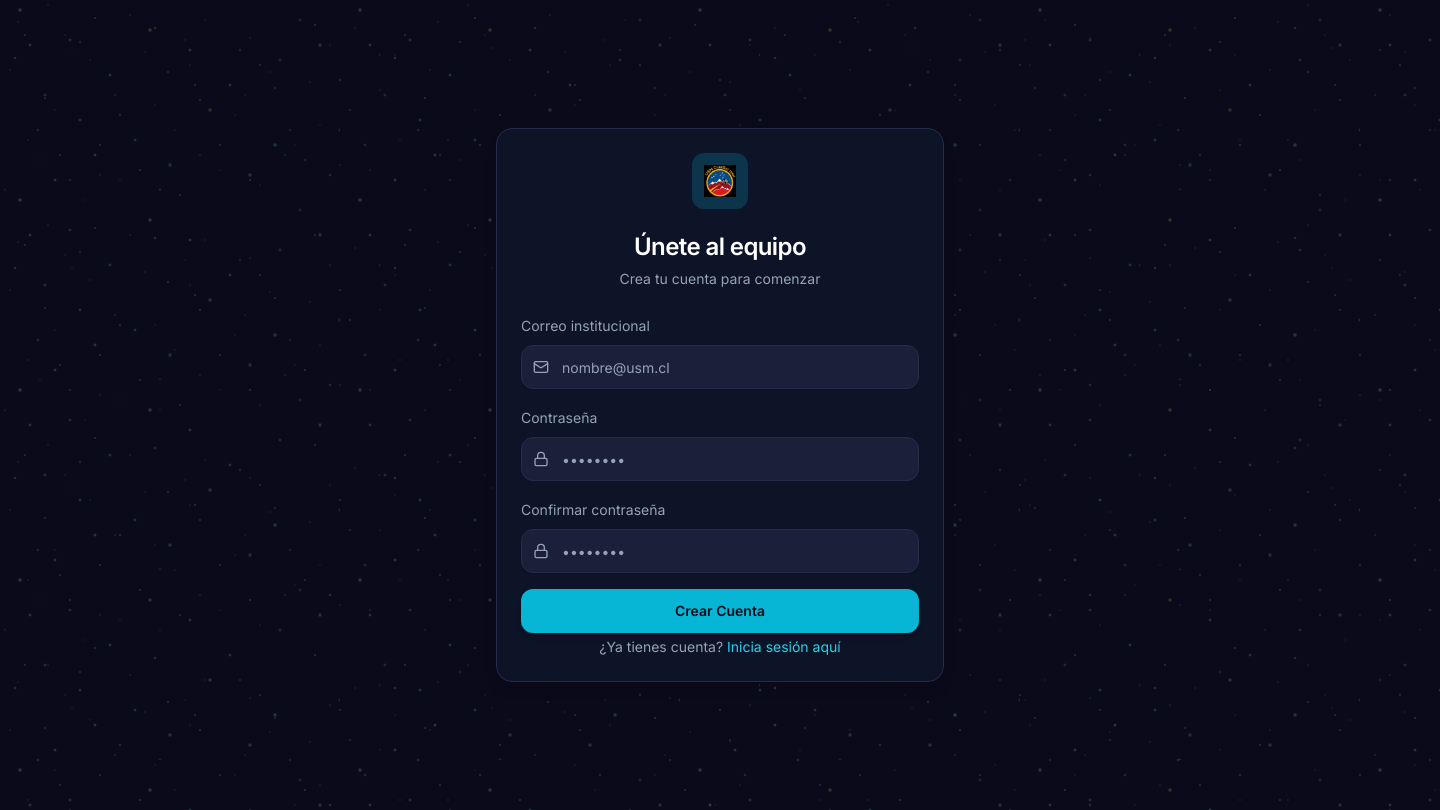
Test: Register › shows error for non-institutional email
The width and height of the screenshot is (1440, 810).
Type "test@gmail.com" into the field with placeholder "nombre@usm.cl" at (720, 367), box [521,345,919,389]
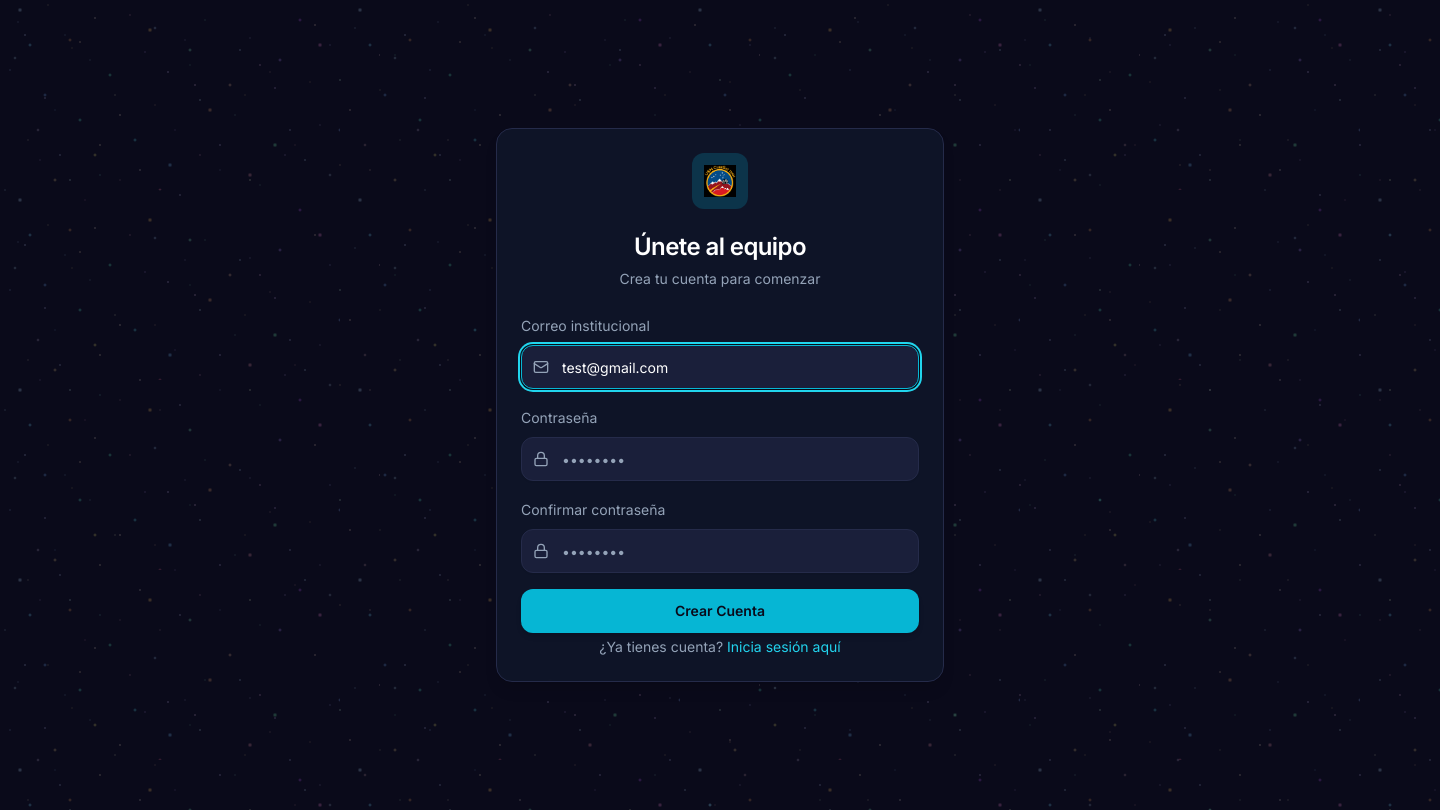
Type "TestPassword123!" into the password field with placeholder "••••••••" at (720, 459), box [521,437,919,481]
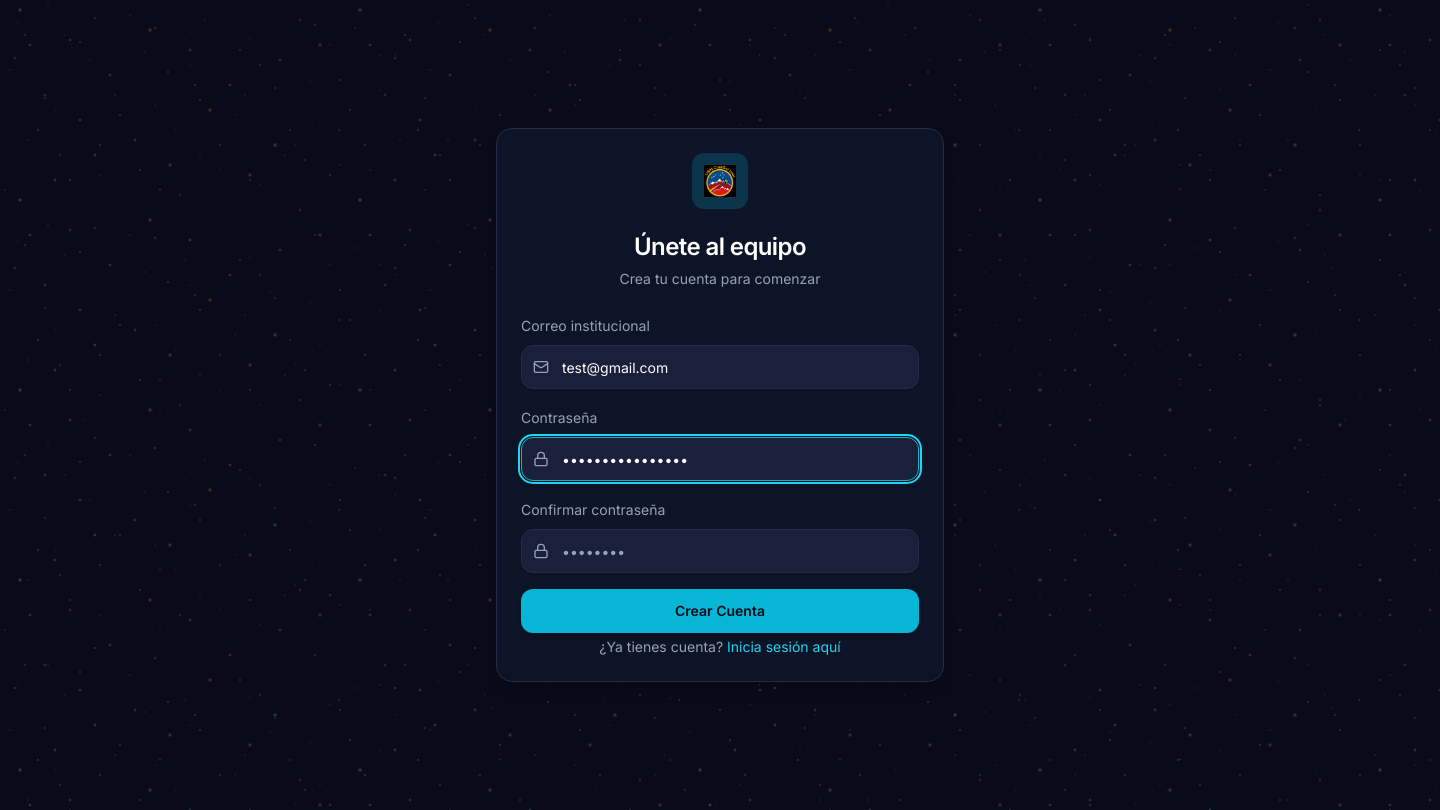
Type "TestPassword123!" into the password field with placeholder "••••••••" at (720, 551), box [521,529,919,573]
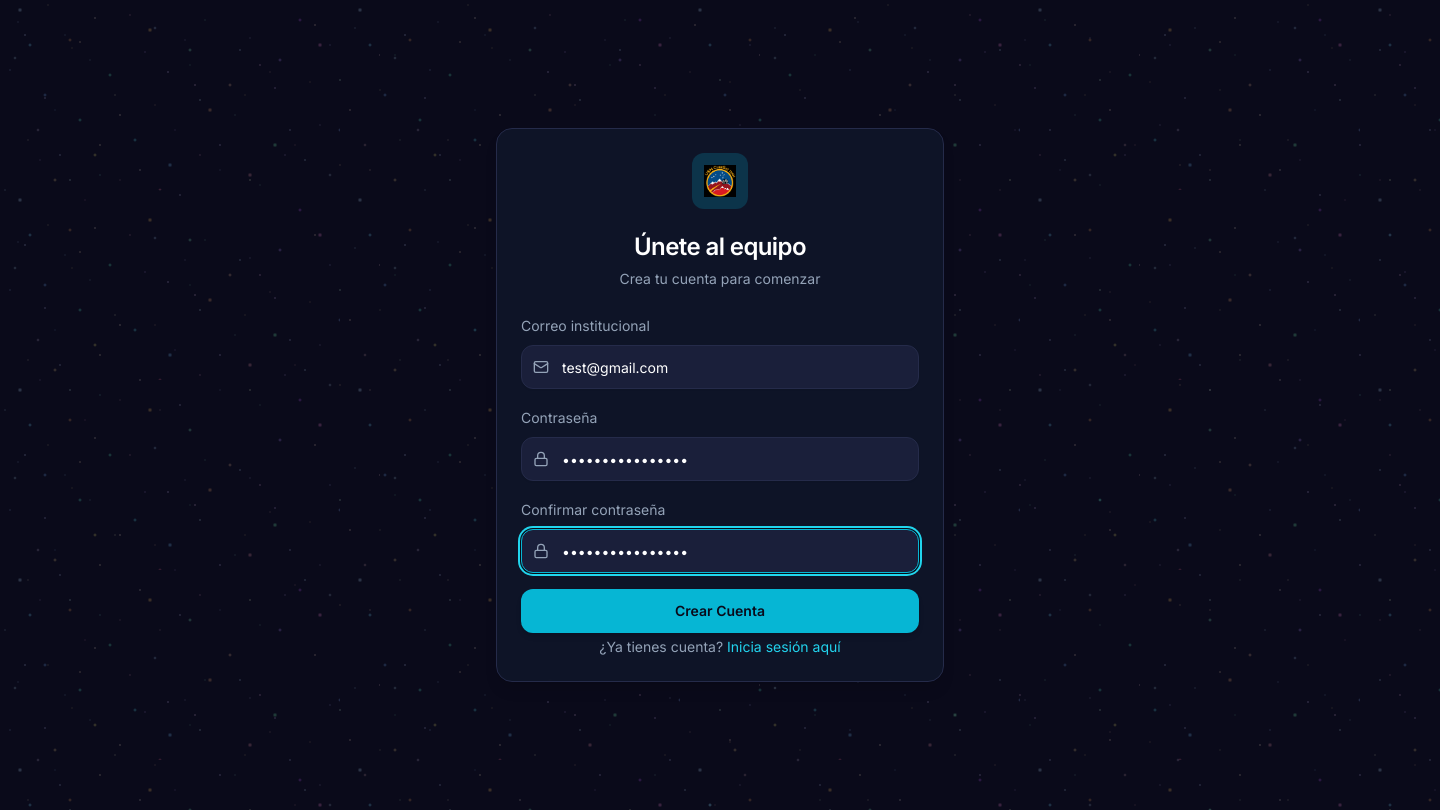
Click the button "Crear Cuenta" at (720, 611), box [521,589,919,633]
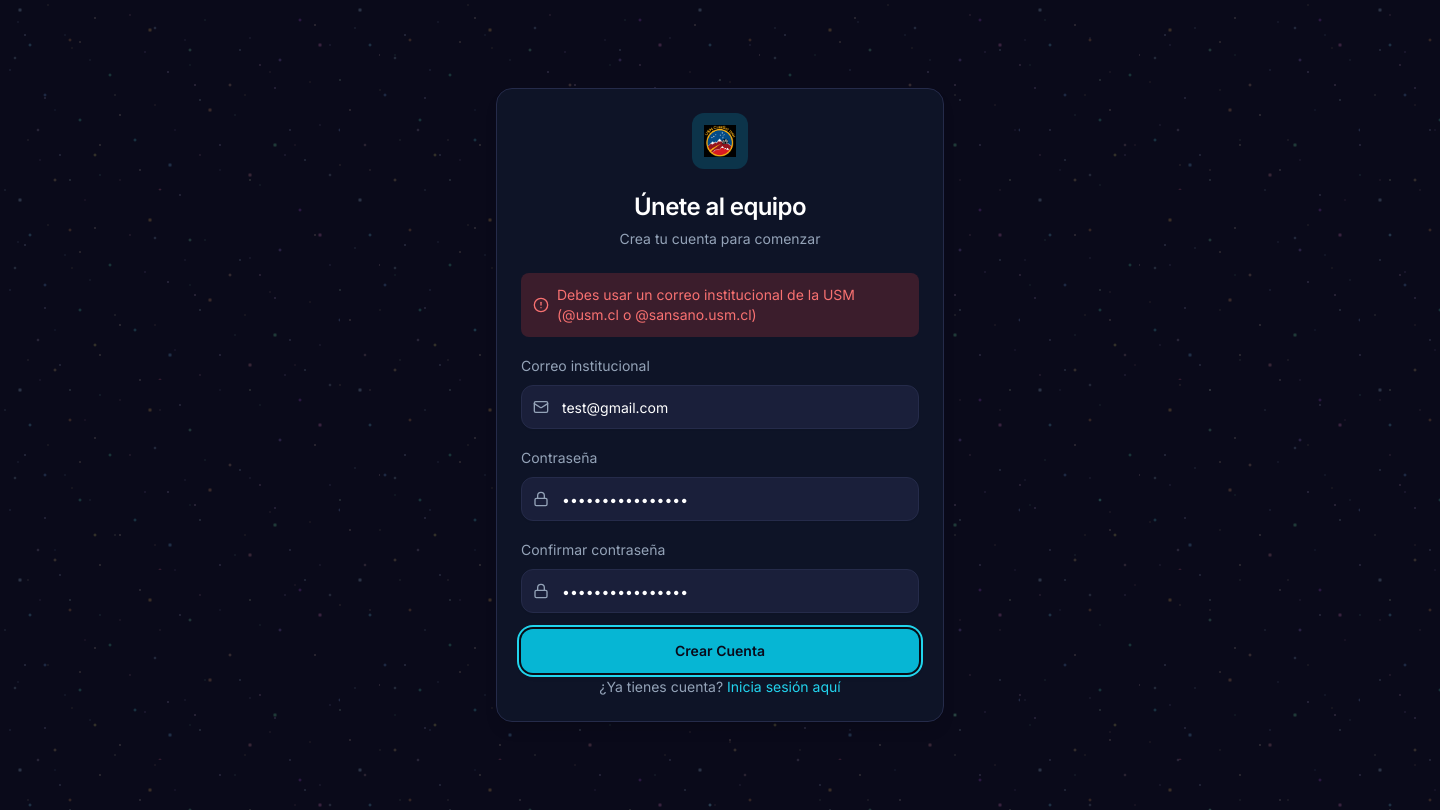
Check: the text "correo institucional de la USM" is shown, box [557,286,855,323]
